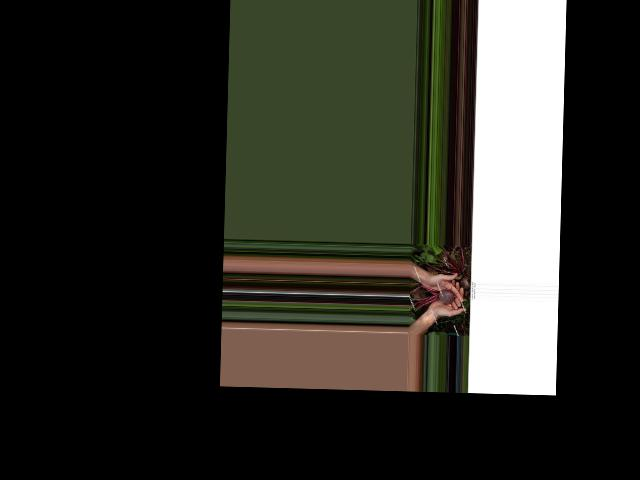beet: (410, 284, 456, 313)
